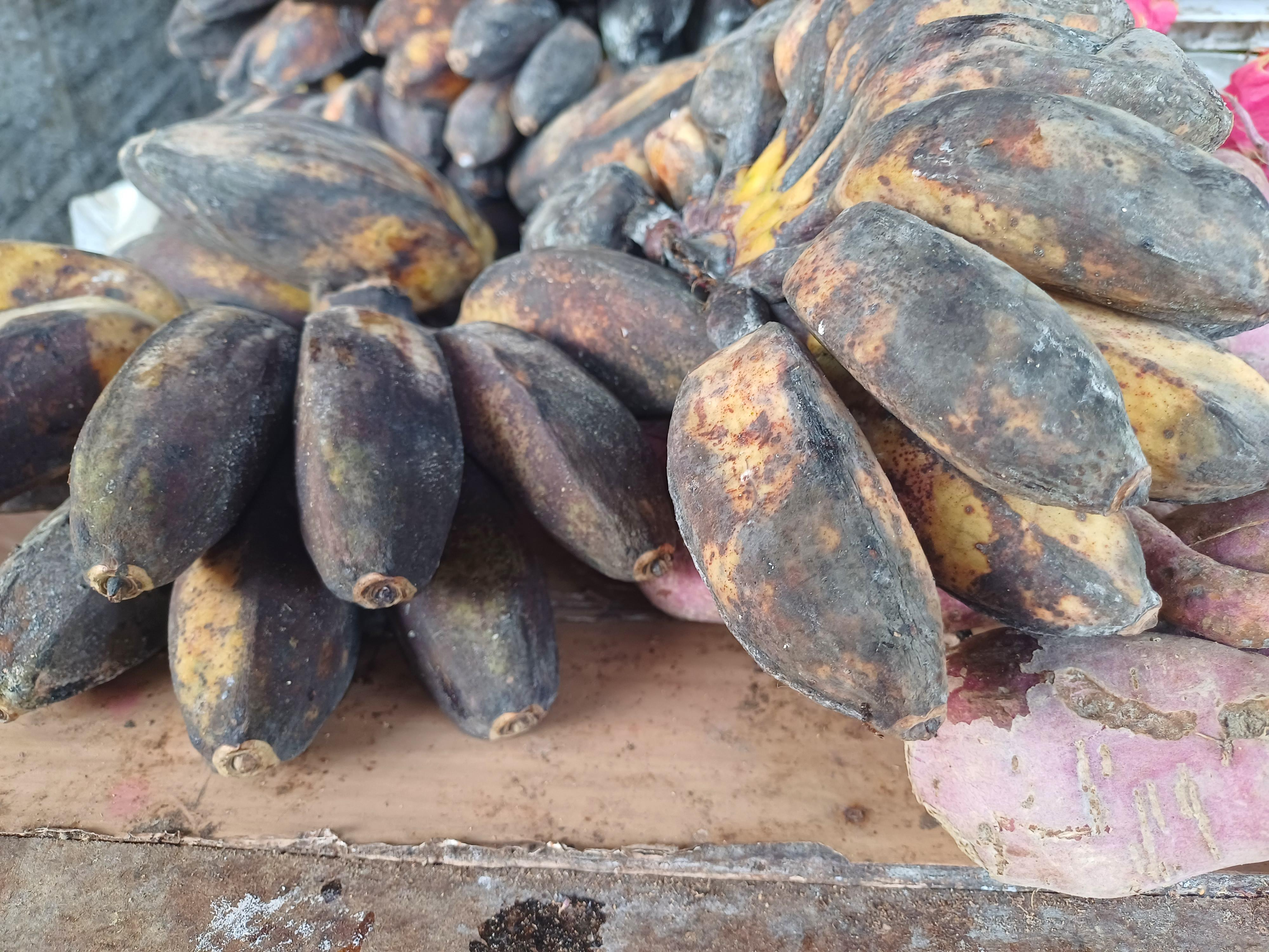overripe: (521, 0, 1269, 739), (0, 242, 713, 774), (116, 108, 494, 324), (444, 0, 693, 169)
